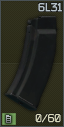AK-74 5.45x39 6L31 60-round magazine: (0, 0, 64, 127)
